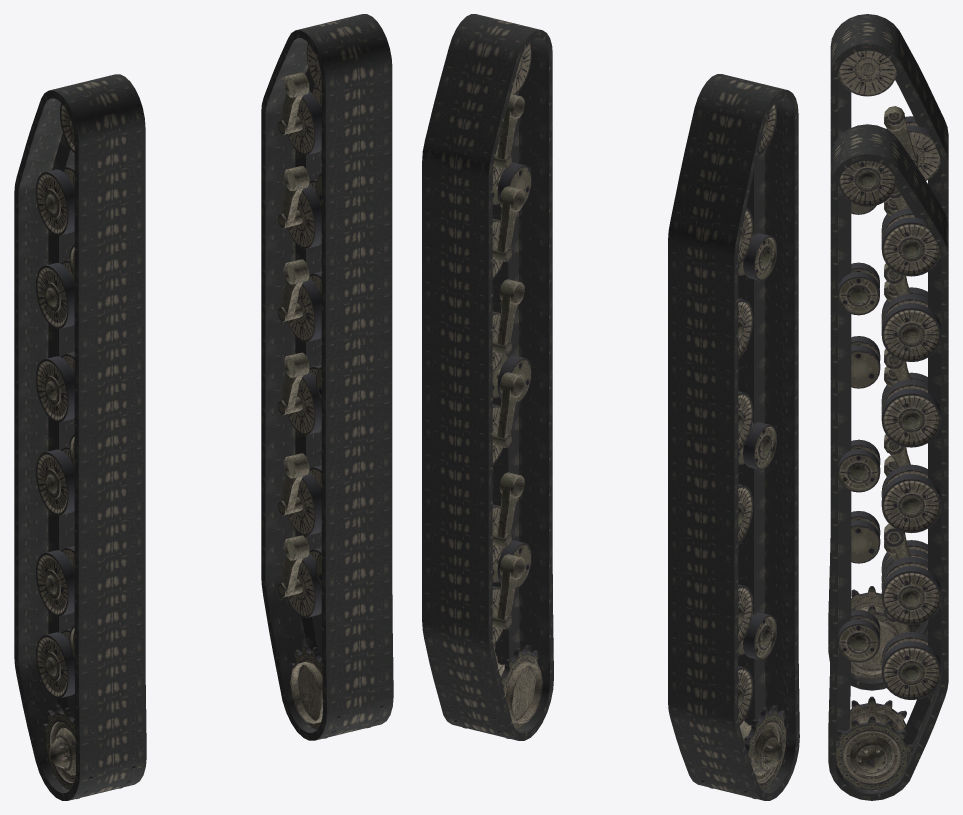
File: Chassis.glb
3 renders of one model, left to right at view 1: azimuth 30°, elevation 25°; view 2: azimuth 150°, elevation 25°; view 3: azimuth 270°, elevation 25°, orthographic. The views are drawn at different scales.
Visible parts, largest first — view 1: set_0_group_0, set_1_group_0, set_3_group_0, set_2_group_0; view 2: set_0_group_0, set_1_group_0, set_3_group_0, set_2_group_0; view 3: set_3_group_0, set_1_group_0, set_2_group_0, set_0_group_0.
Boxes of the visible parts, box(x1,y1,x2,y2) form: set_0_group_0: box(14, 74, 146, 800); set_1_group_0: box(261, 14, 393, 740); set_3_group_0: box(278, 43, 383, 738); set_2_group_0: box(35, 103, 135, 799); set_0_group_0: box(668, 74, 799, 800); set_1_group_0: box(422, 14, 553, 740); set_3_group_0: box(450, 43, 542, 738); set_2_group_0: box(701, 103, 786, 799); set_3_group_0: box(835, 160, 941, 789); set_1_group_0: box(828, 124, 948, 800); set_2_group_0: box(838, 50, 940, 679); set_0_group_0: box(828, 14, 948, 690).
Size of the model in its own units: 3.14 by 6.59 by 1.11.
4 materials, 4 textured.
